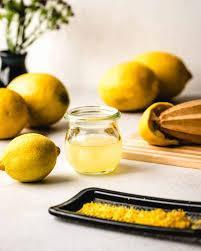lemon: (6, 72, 70, 128), (99, 61, 159, 110), (0, 134, 60, 182), (131, 51, 192, 98), (138, 102, 178, 146), (0, 88, 28, 138)
